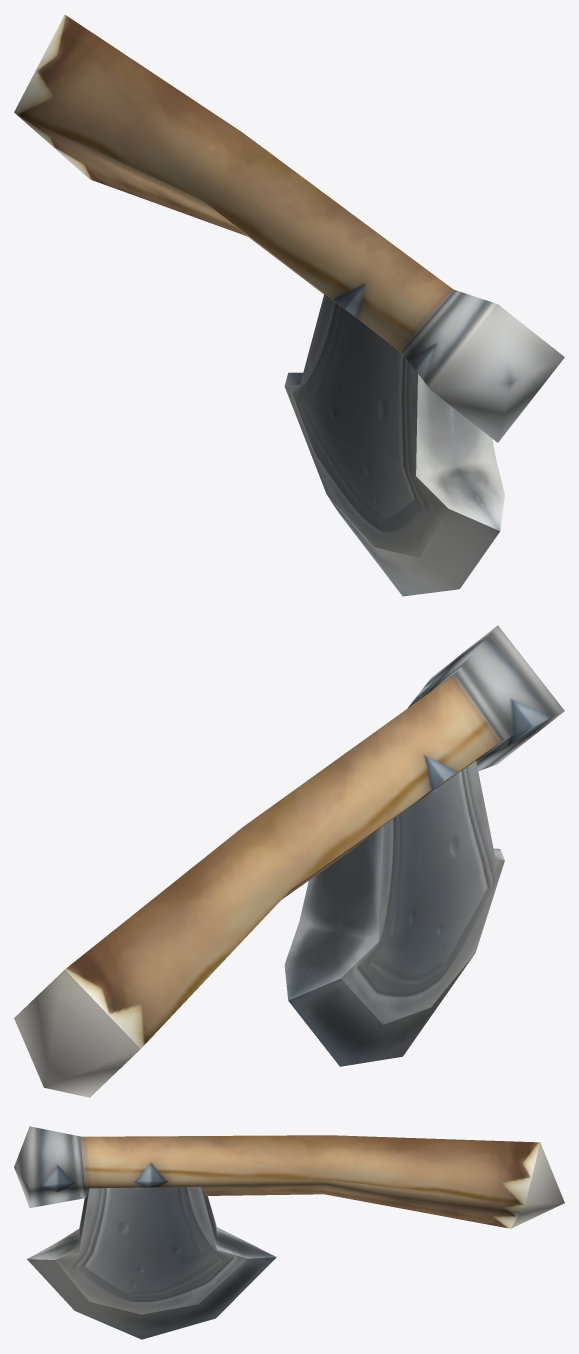
File: Axe02.FBX
The picture shows the model from 3 angles, top to bottom: view 1: azimuth 30°, elevation 25°; view 2: azimuth 150°, elevation 25°; view 3: azimuth 270°, elevation 25°; orthographic projection. The views are drawn at different scales.
Visible parts, largest first — view 1: Box04; view 2: Box04; view 3: Box04.
Part boxes in pixels (box(x1,y1,x2,y2)): Box04: box(14, 15, 564, 596); Box04: box(14, 625, 564, 1097); Box04: box(14, 1126, 564, 1339).
Bounding box in the file's own units: 16.02 × 41.3 × 96.63.
1 material, 1 textured.
